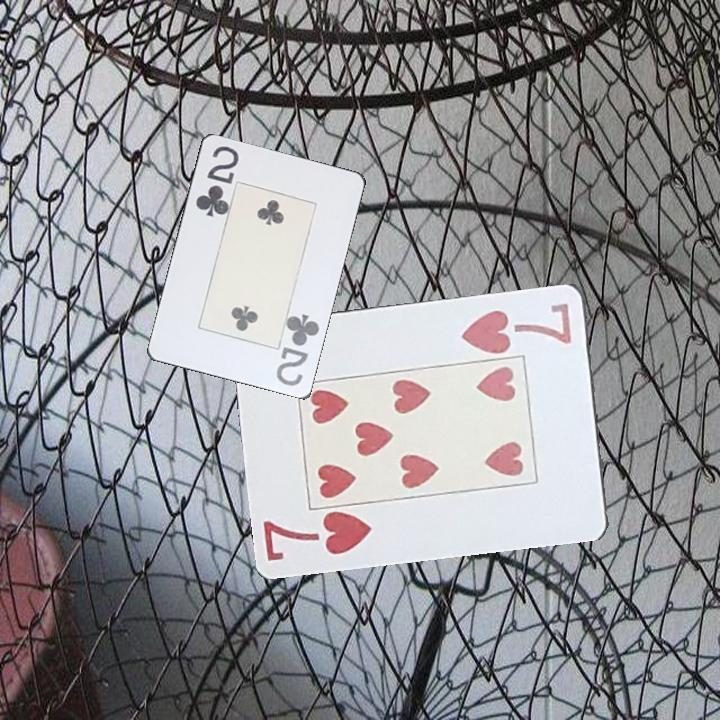2c: (273, 311, 323, 389), (192, 143, 242, 221)
7h: (457, 299, 575, 356), (259, 507, 375, 564)
